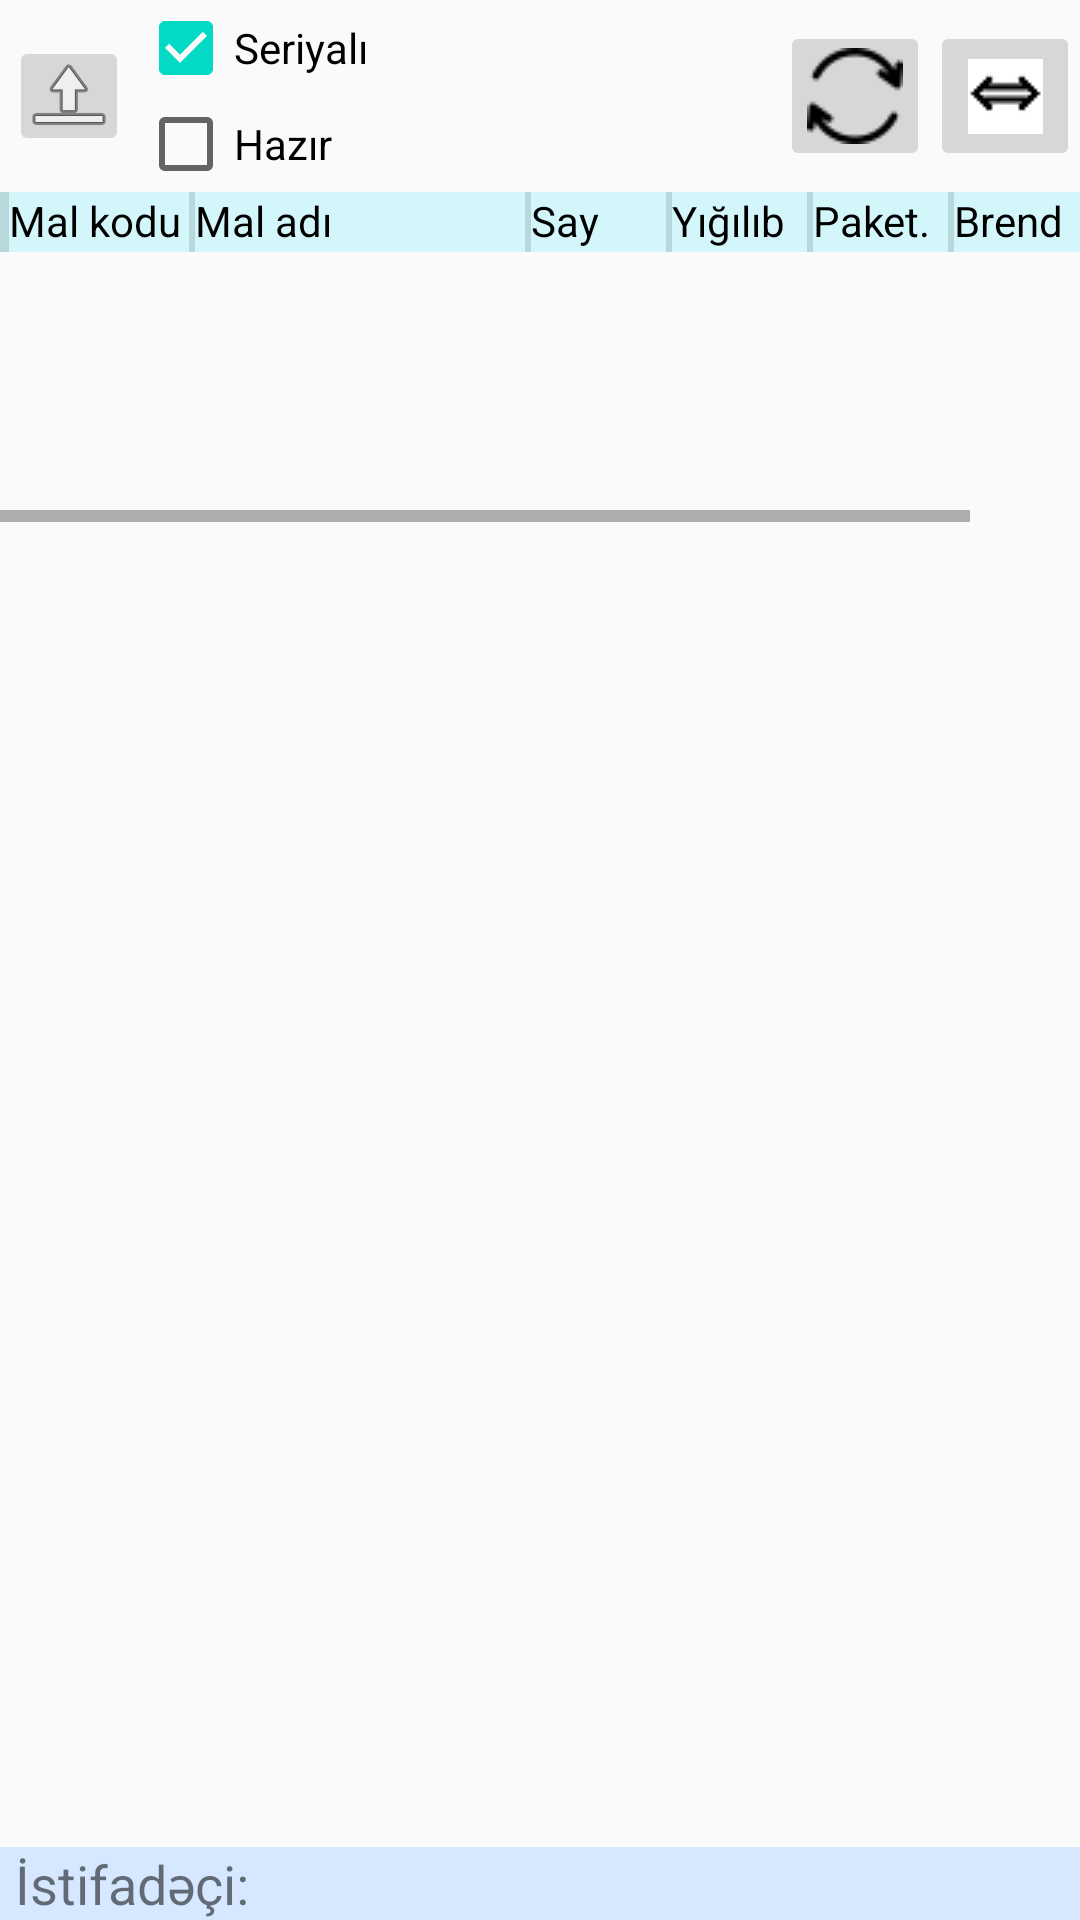

Icon click points for this 1080*1920 phone screenshot, format point (x, y):
Hamısını eyniləşdir: point (1005, 96)
